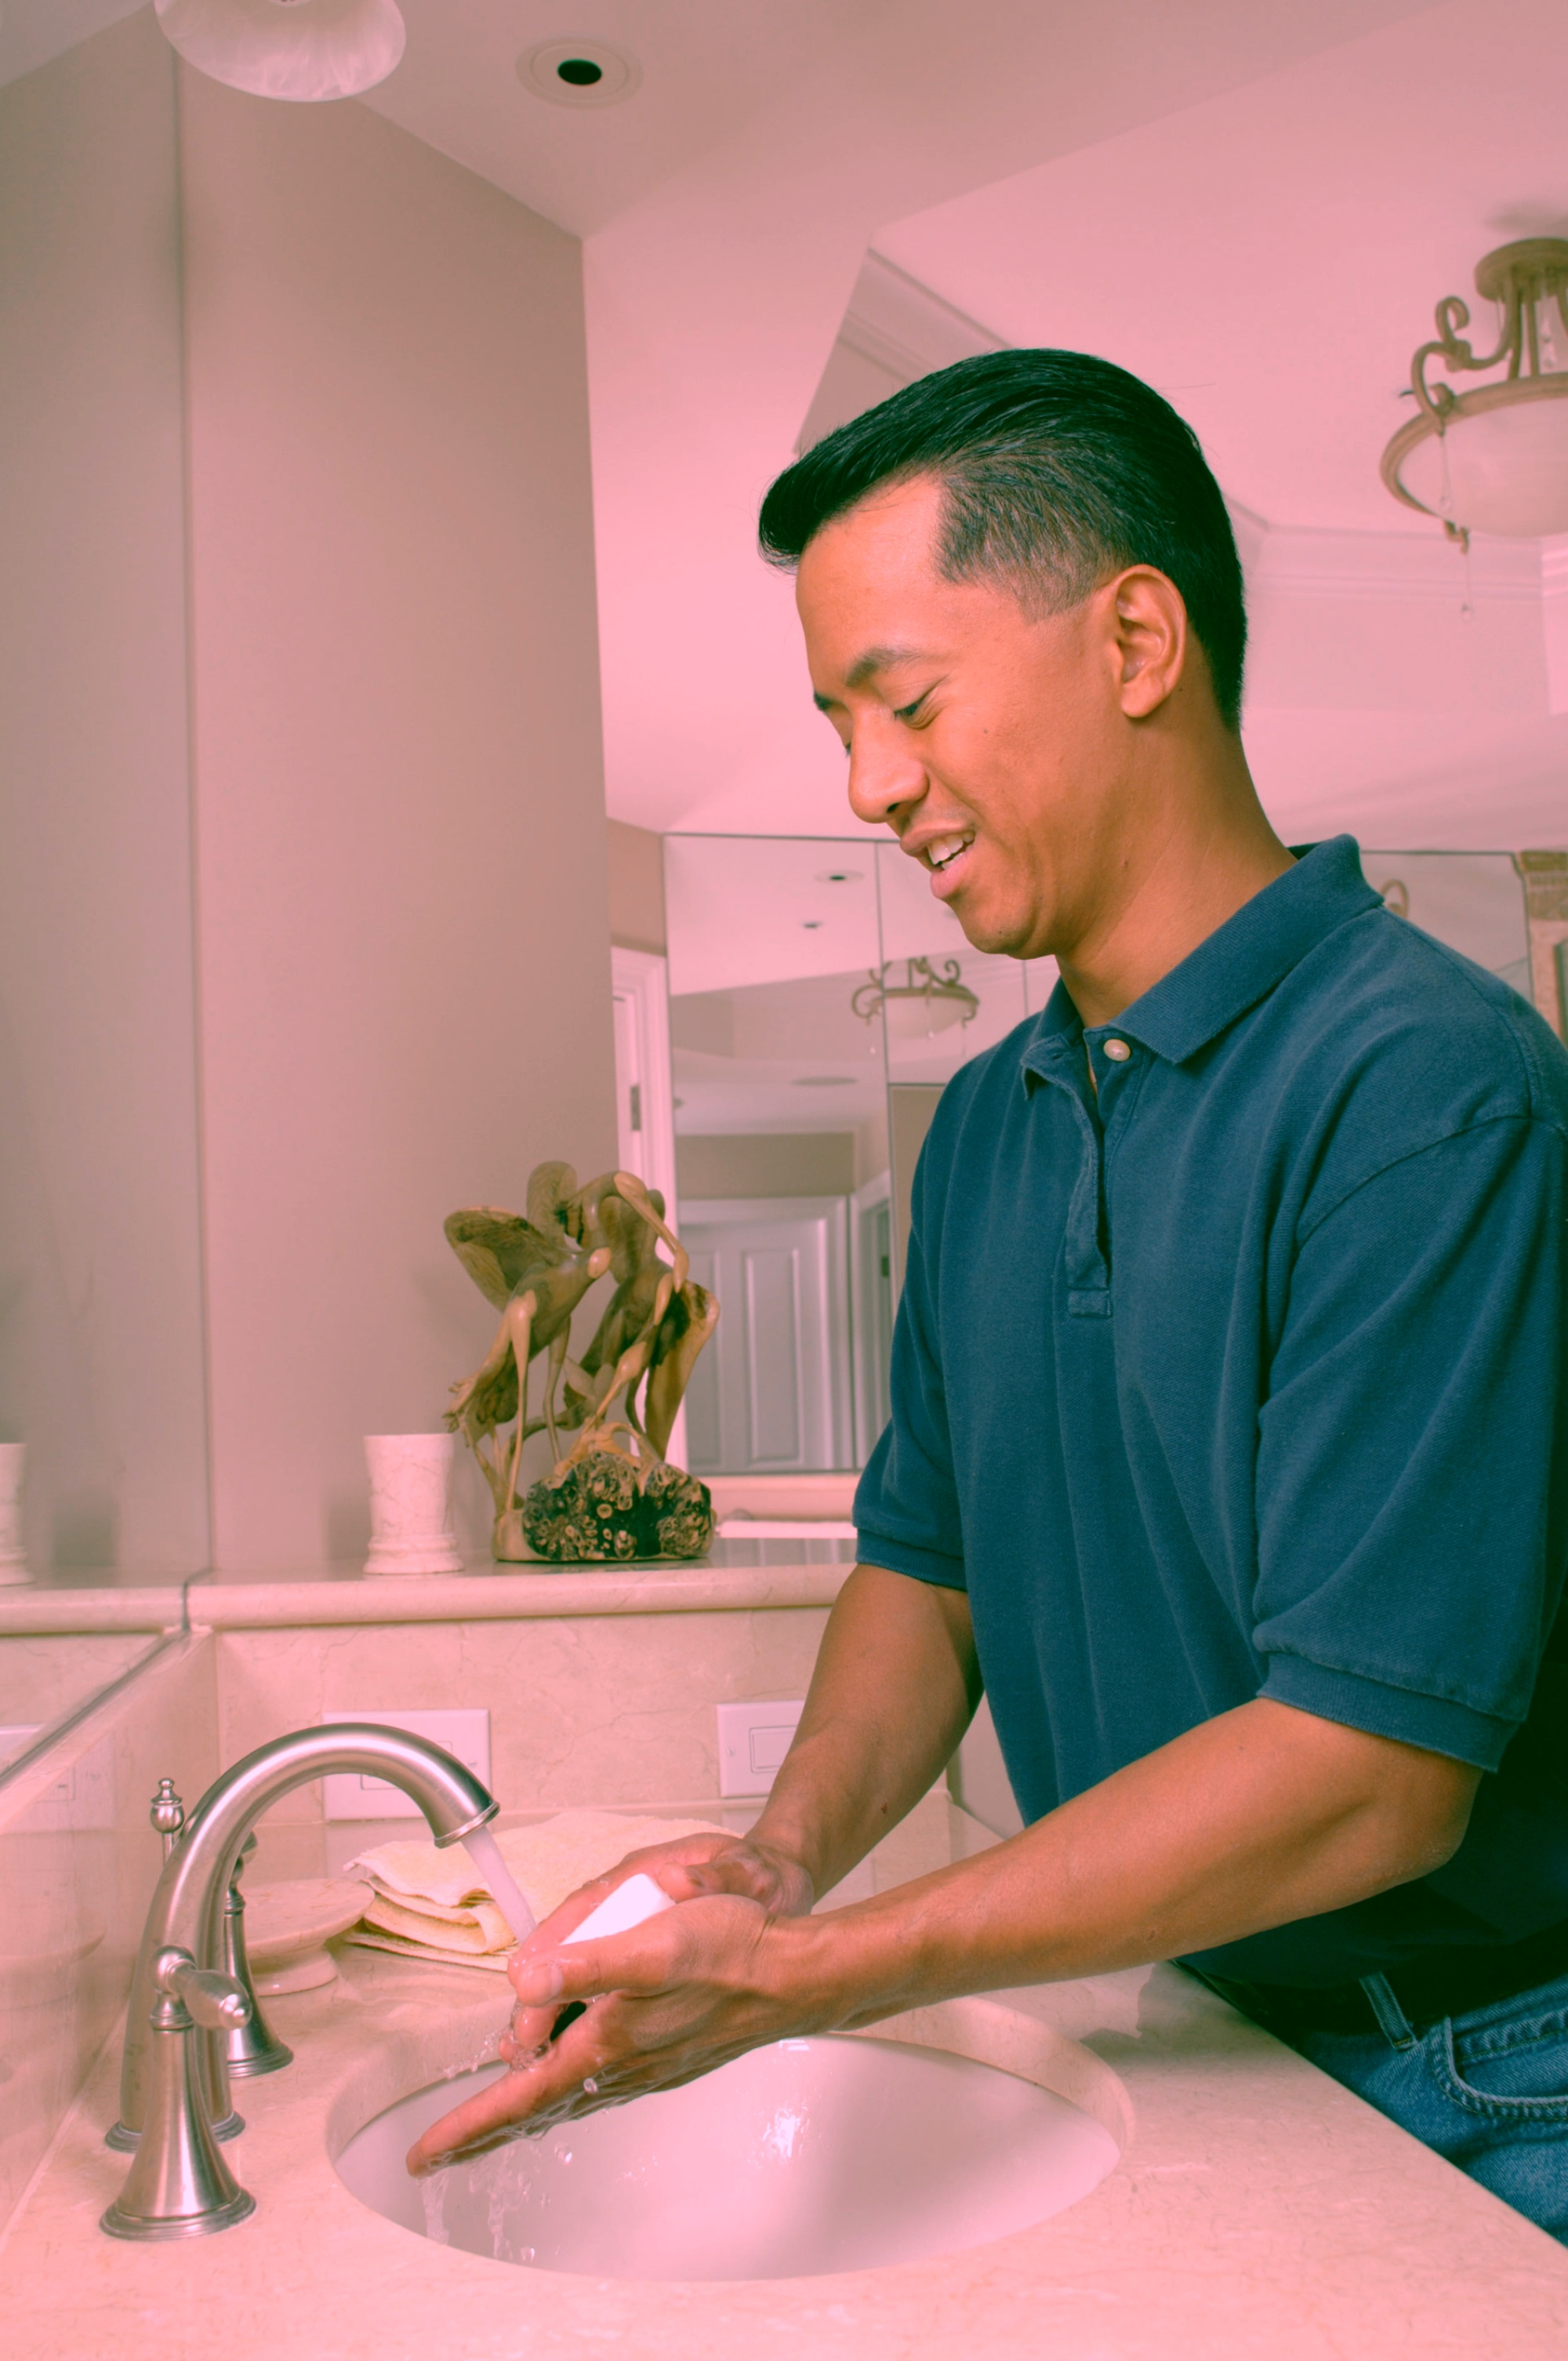washing hand: (82, 1547, 795, 2238)
